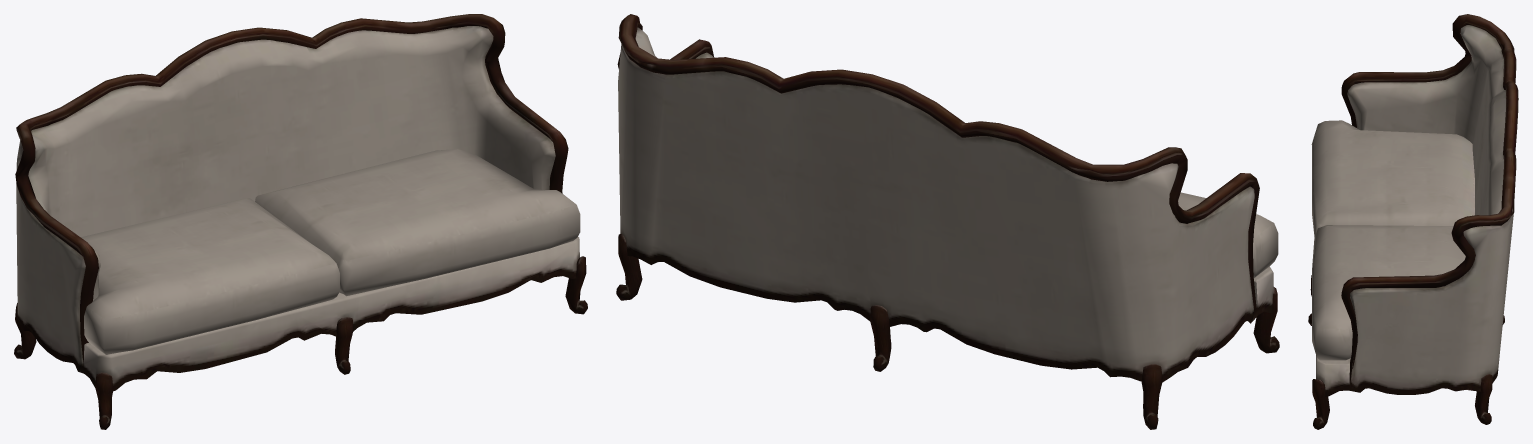
Rendered from Sofa_01.glb.
The picture shows the model from 3 angles, left to right: view 1: azimuth 30°, elevation 25°; view 2: azimuth 150°, elevation 25°; view 3: azimuth 270°, elevation 25°; orthographic projection. The views are drawn at different scales.
Parts seen in each view (by area): view 1: Sofa_01; view 2: Sofa_01; view 3: Sofa_01.
Boxes of the visible parts, <box> form: Sofa_01: <box>14,14,587,429</box>; Sofa_01: <box>616,14,1279,429</box>; Sofa_01: <box>1308,14,1518,429</box>.
Size of the model in its own units: 1.57 by 0.7954 by 0.658.
Materials: 1 (1 with a texture image).
